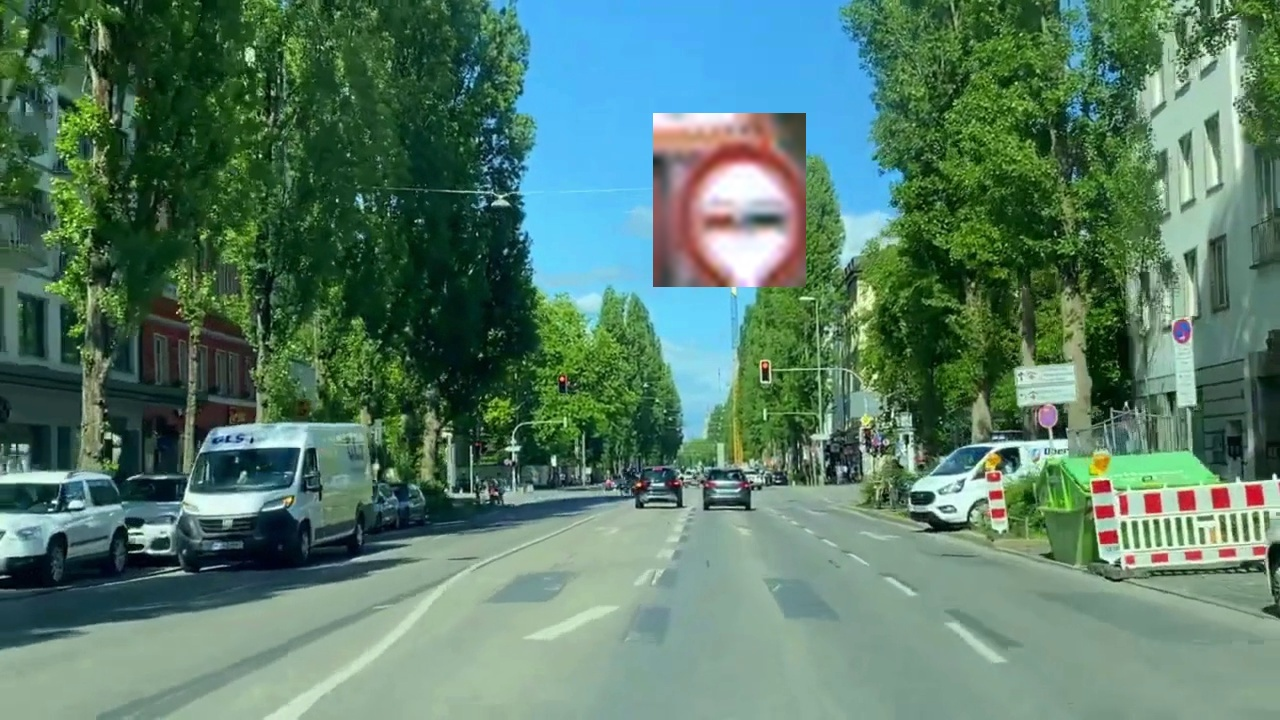No passing: (653, 113, 806, 287)
